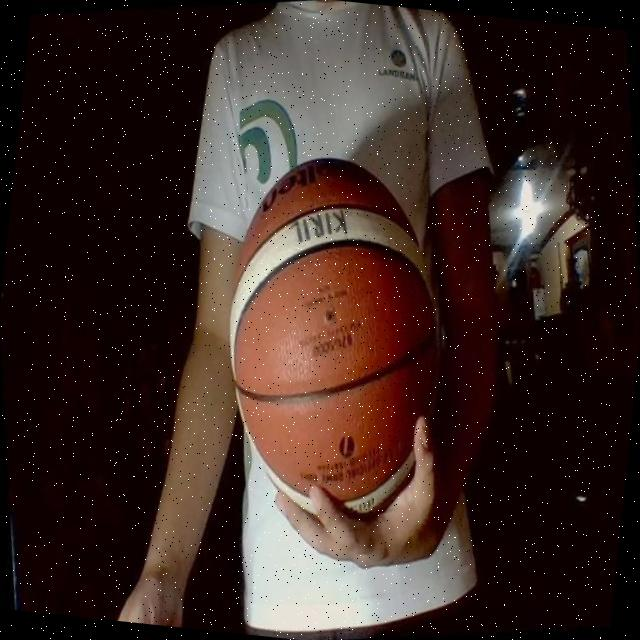ball: (181, 127, 488, 552)
